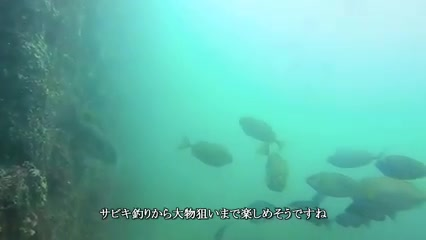smallfish: (233, 112, 285, 151), (179, 138, 238, 169)
